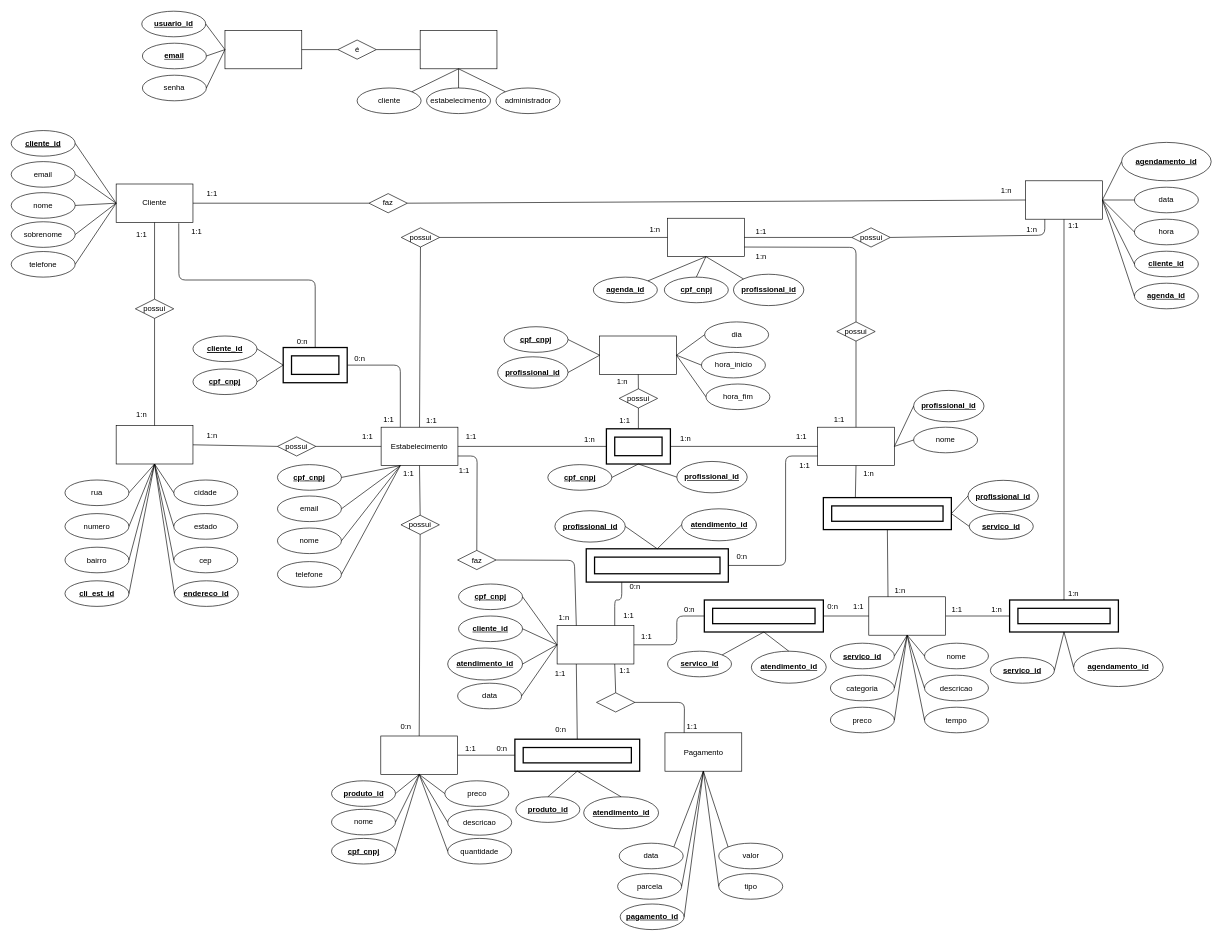
This 1222x941 diagram has some shape labels left out. The centre of each missing label's shape, as x and y in pixels:
"Agenda" belongs at point (705, 237).
"Agendamento" belongs at point (1063, 199).
"Atendimento" belongs at point (595, 644).
"Atendimento_produtos" belongs at point (577, 755).
"Atendimento_profissionais" belongs at point (657, 565).
"Atendimento_servicos" belongs at point (763, 615).
"Cadastro" belongs at point (315, 365).
"compoe" belongs at point (615, 702).
"Contrato" belongs at point (638, 446).
"Disponibilidade" belongs at point (637, 354).
"Endereco" belongs at point (154, 444).
"Produto" belongs at point (419, 754).
"Profissional" belongs at point (855, 446).
"Servicos_profissionais" belongs at point (887, 513).
"Serviço" belongs at point (907, 615).
"Solicia_servico" belongs at point (1064, 615).
"Tipo_usuario" belongs at point (458, 49).
"Usuario" belongs at point (263, 49).
